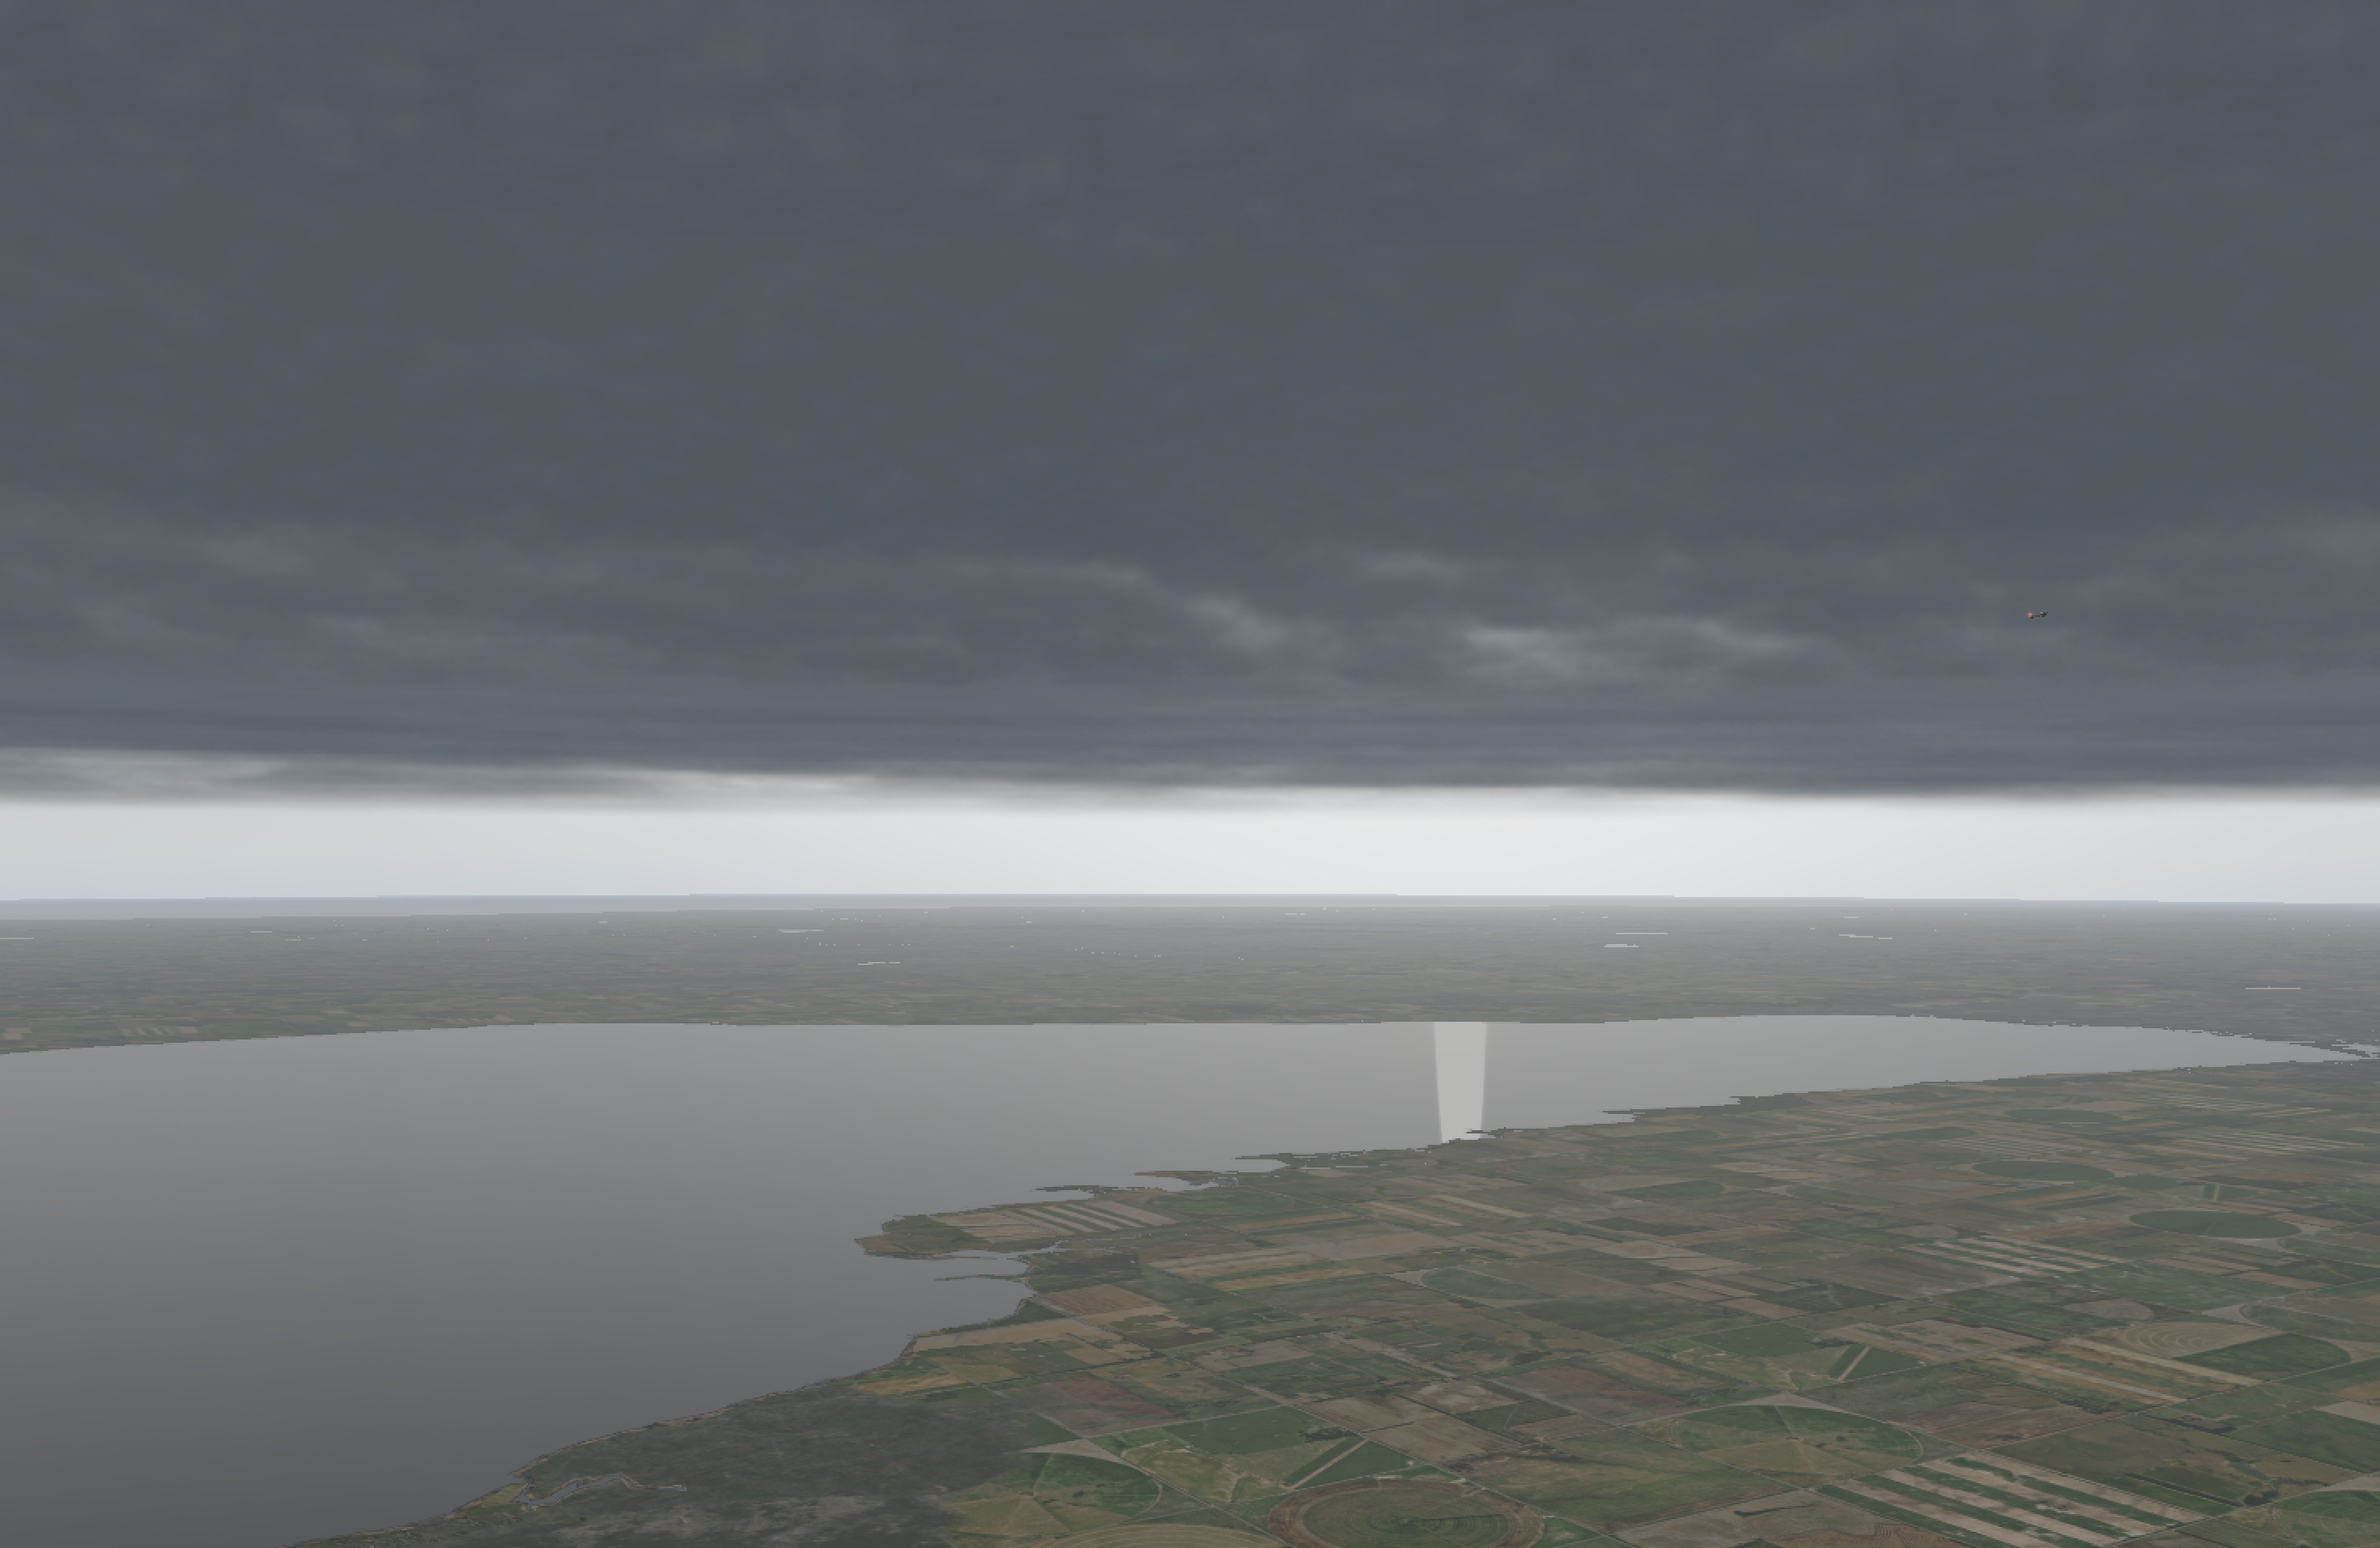aircraft: (2035, 611, 2050, 616)
